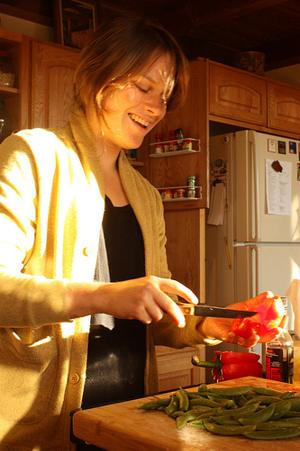person: (2, 13, 258, 449)
